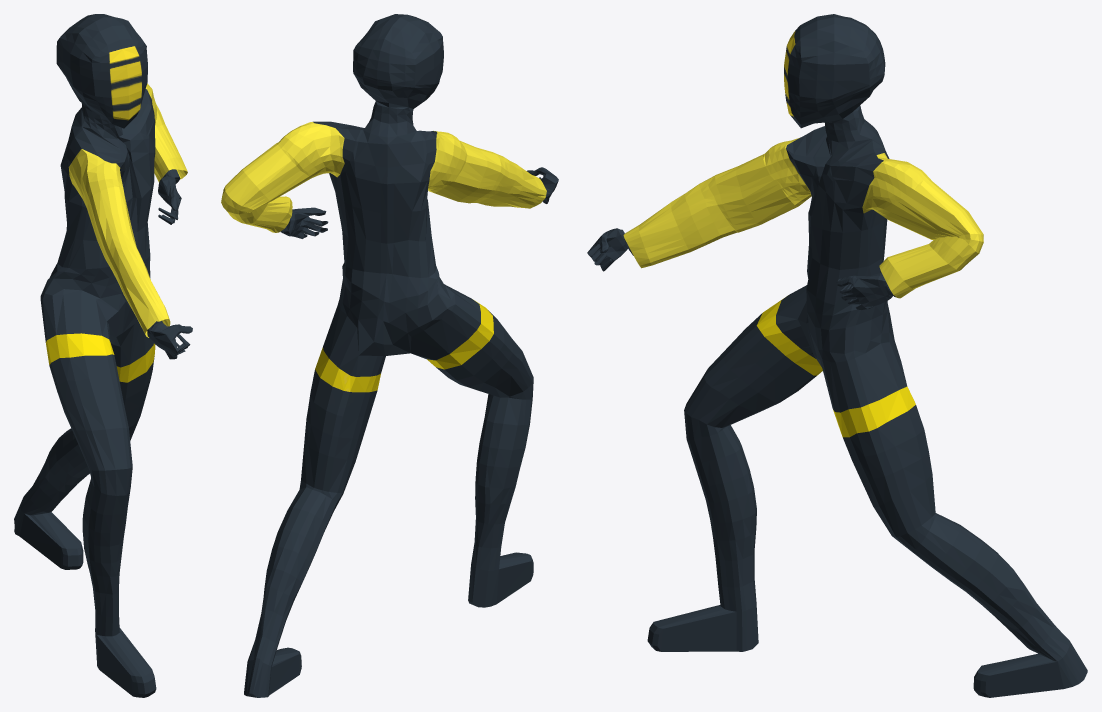
Rendered from Sentry_WF_000027.obj.
The picture shows the model from 3 angles, left to right: view 1: azimuth 30°, elevation 25°; view 2: azimuth 150°, elevation 25°; view 3: azimuth 270°, elevation 25°; orthographic projection. The views are drawn at different scales.
Parts seen in each view (by area): view 1: Cube; view 2: Cube; view 3: Cube.
Part boxes in pixels (bbox=[...]): Cube: bbox=[14, 14, 192, 697]; Cube: bbox=[221, 14, 558, 697]; Cube: bbox=[587, 14, 1087, 697].
Size of the model in its own units: 1.18 by 3.61 by 2.5.
